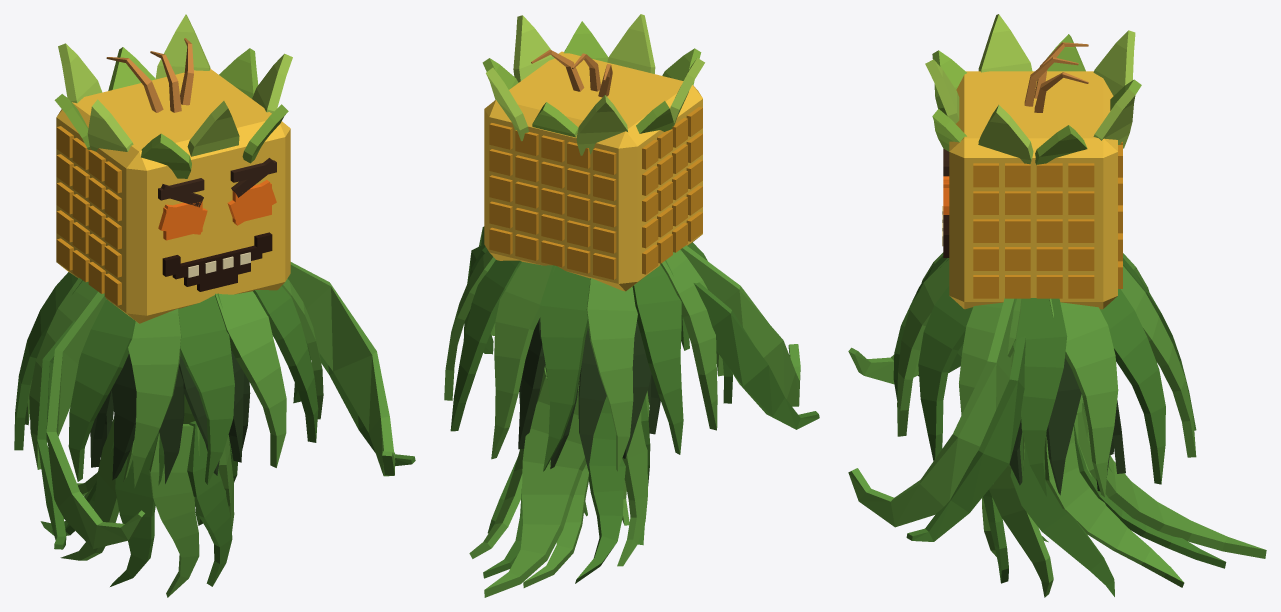
Rendered from w1_secretenemy_cornwraith.fbx.
The picture shows the model from 3 angles, left to right: view 1: azimuth 30°, elevation 25°; view 2: azimuth 150°, elevation 25°; view 3: azimuth 270°, elevation 25°; orthographic projection. The views are drawn at different scales.
Parts seen in each view (by area): view 1: CornWraith.Head, CornWraith.CloakDark, CornWraith.Cloak, CornWraith.Kernels, CornWraith.LeftArm, CornWraith.Crown, CornWraith.Torso, CornWraith.RightArm, CornWraith.RightStrips, CornWraith.CrownDark, CornWraith.RightLeg, CornWraith.LeftLeg (+9 smaller); view 2: CornWraith.Kernels, CornWraith.Head, CornWraith.Cloak, CornWraith.CloakDark, CornWraith.Tail, CornWraith.Crown, CornWraith.Torso, CornWraith.RightWisp, CornWraith.RightStrips, CornWraith.RightLeg, CornWraith.RightArm, CornWraith.CrownDark (+3 smaller); view 3: CornWraith.Head, CornWraith.CloakDark, CornWraith.Cloak, CornWraith.Kernels, CornWraith.LeftArm, CornWraith.LeftStrips, CornWraith.Crown, CornWraith.LeftLeg, CornWraith.LeftWisp, CornWraith.Tail, CornWraith.CrownDark, CornWraith.Torso (+2 smaller).
Boxes of the visible parts, x1=… form: CornWraith.Head: x1=56, y1=68, x2=290, y2=323; CornWraith.CloakDark: x1=14, y1=272, x2=318, y2=484; CornWraith.Cloak: x1=25, y1=278, x2=323, y2=487; CornWraith.Kernels: x1=56, y1=126, x2=121, y2=305; CornWraith.LeftArm: x1=287, y1=262, x2=395, y2=476; CornWraith.Crown: x1=58, y1=14, x2=292, y2=156; CornWraith.Torso: x1=90, y1=350, x2=250, y2=483; CornWraith.RightArm: x1=46, y1=291, x2=144, y2=548; CornWraith.RightStrips: x1=60, y1=416, x2=199, y2=597; CornWraith.CrownDark: x1=54, y1=47, x2=288, y2=178; CornWraith.RightLeg: x1=40, y1=431, x2=164, y2=586; CornWraith.LeftLeg: x1=187, y1=421, x2=237, y2=586; CornWraith.Kernels: x1=489, y1=107, x2=702, y2=279; CornWraith.Head: x1=484, y1=51, x2=702, y2=291; CornWraith.Cloak: x1=444, y1=249, x2=723, y2=471; CornWraith.CloakDark: x1=450, y1=242, x2=732, y2=471; CornWraith.Tail: x1=484, y1=377, x2=594, y2=597; CornWraith.Crown: x1=486, y1=14, x2=704, y2=155; CornWraith.Torso: x1=518, y1=317, x2=660, y2=469; CornWraith.RightWisp: x1=693, y1=282, x2=819, y2=429; CornWraith.RightStrips: x1=523, y1=385, x2=649, y2=587; CornWraith.RightLeg: x1=575, y1=396, x2=650, y2=583; CornWraith.RightArm: x1=680, y1=245, x2=800, y2=406; CornWraith.CrownDark: x1=482, y1=21, x2=701, y2=137; CornWraith.Head: x1=949, y1=71, x2=1117, y2=309; CornWraith.CloakDark: x1=893, y1=256, x2=1196, y2=496; CornWraith.Cloak: x1=897, y1=252, x2=1196, y2=497; CornWraith.Kernels: x1=973, y1=141, x2=1122, y2=298; CornWraith.LeftArm: x1=848, y1=298, x2=1014, y2=527; CornWraith.LeftStrips: x1=989, y1=415, x2=1184, y2=597; CornWraith.Crown: x1=925, y1=14, x2=1135, y2=164; CornWraith.LeftLeg: x1=983, y1=403, x2=1226, y2=596; CornWraith.LeftWisp: x1=906, y1=336, x2=1025, y2=541; CornWraith.Tail: x1=1076, y1=394, x2=1266, y2=558; CornWraith.CrownDark: x1=932, y1=34, x2=1141, y2=165; CornWraith.Torso: x1=1009, y1=358, x2=1125, y2=495.
Bounding box in the file's own units: 3.84 × 5.27 × 3.88.
